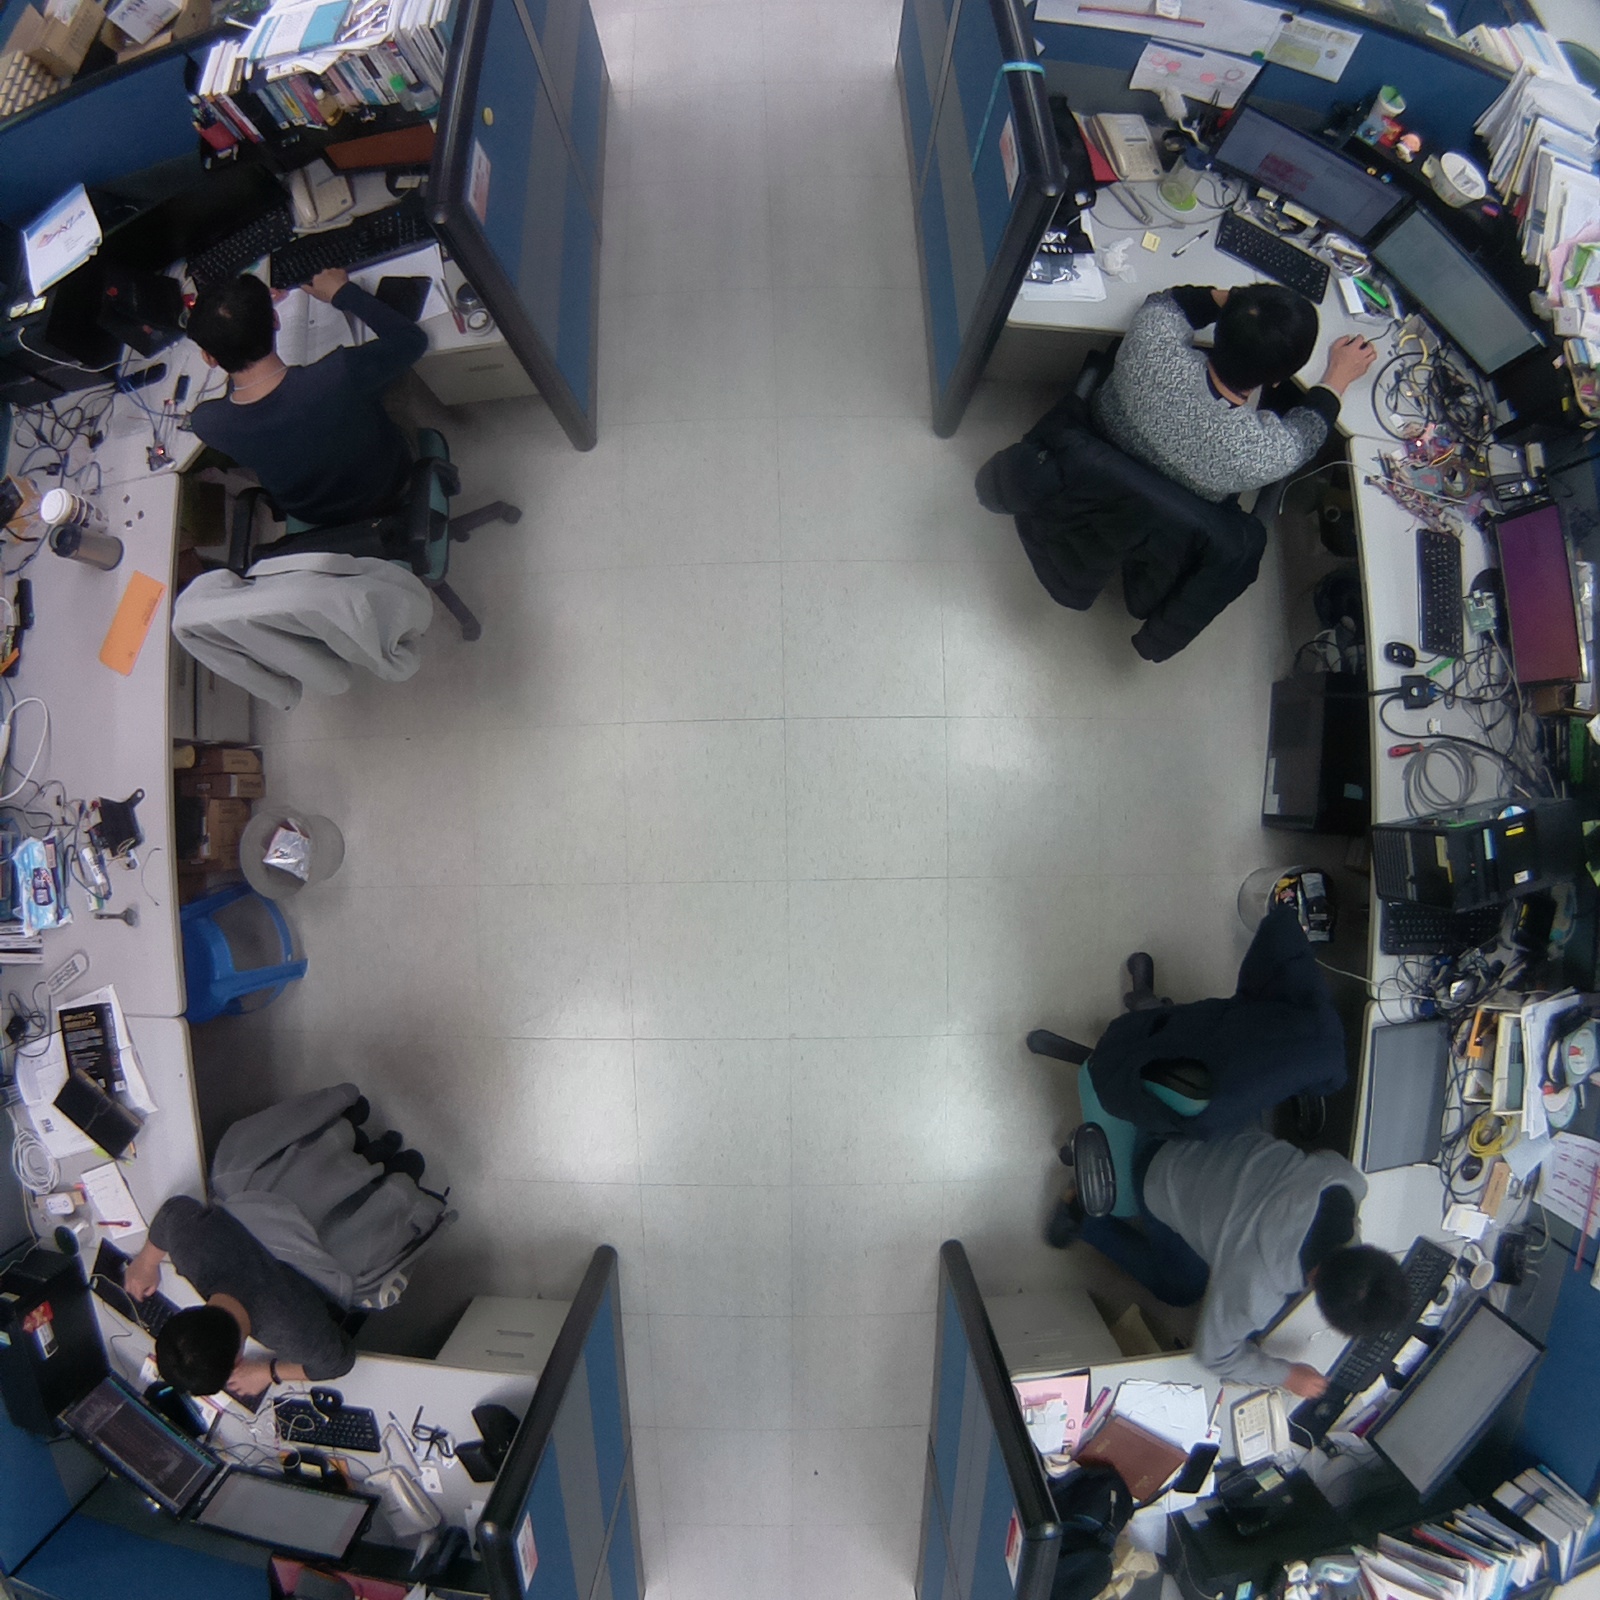sitting: (999, 933, 1424, 1420), (144, 245, 541, 734), (957, 261, 1396, 689), (103, 1055, 473, 1436)
